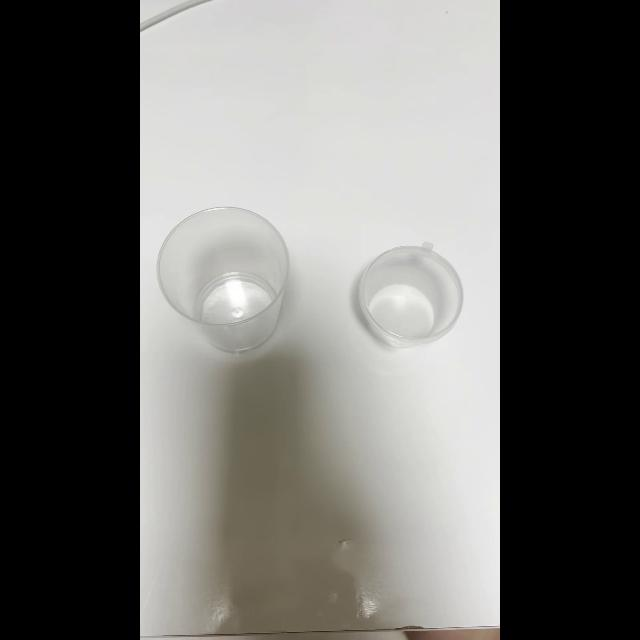clean: (159, 210, 291, 352), (360, 242, 470, 344)
